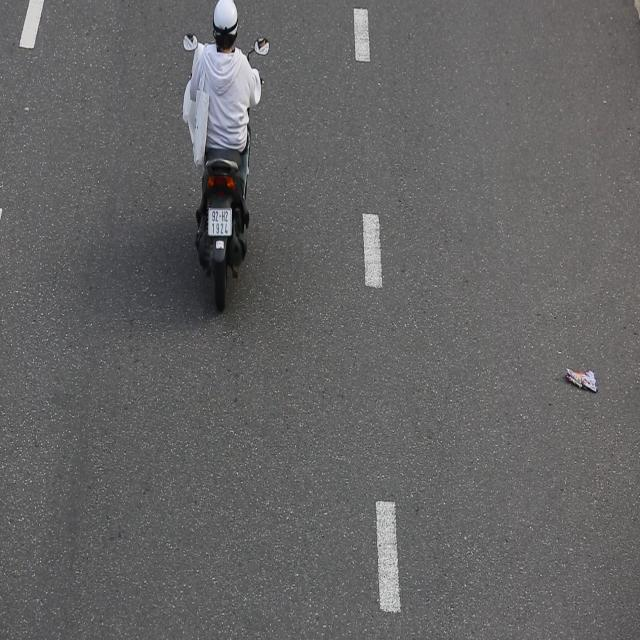motorbike: (182, 0, 281, 333)
